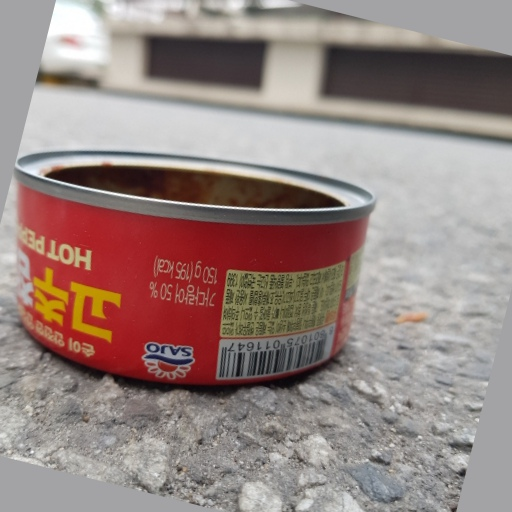Metal_1: (12, 149, 377, 392)
